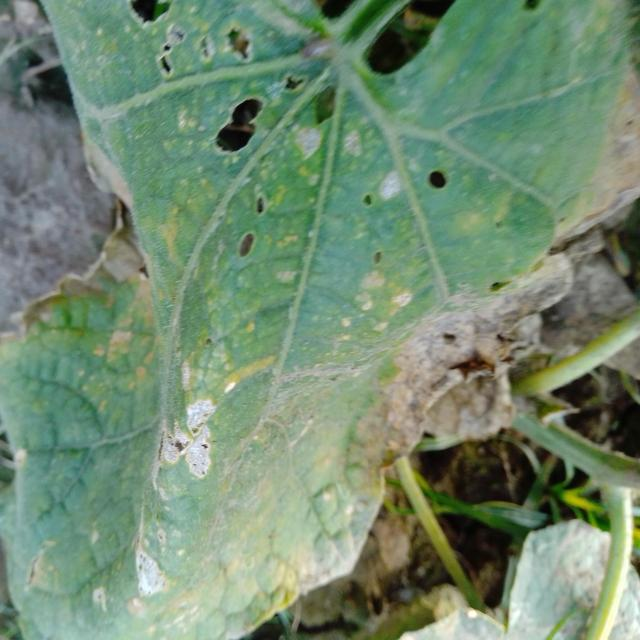cucumber_anthracnose: (116, 5, 587, 274), (62, 285, 520, 434), (34, 452, 374, 626)
